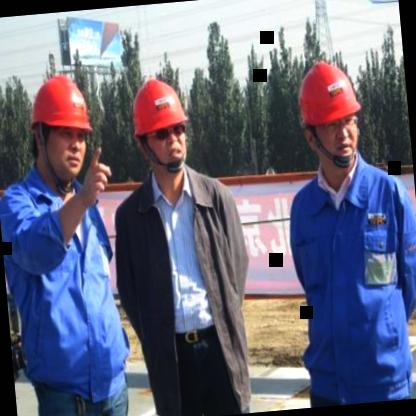helmet: (286, 43, 372, 180), (20, 59, 104, 197), (123, 66, 200, 185)
